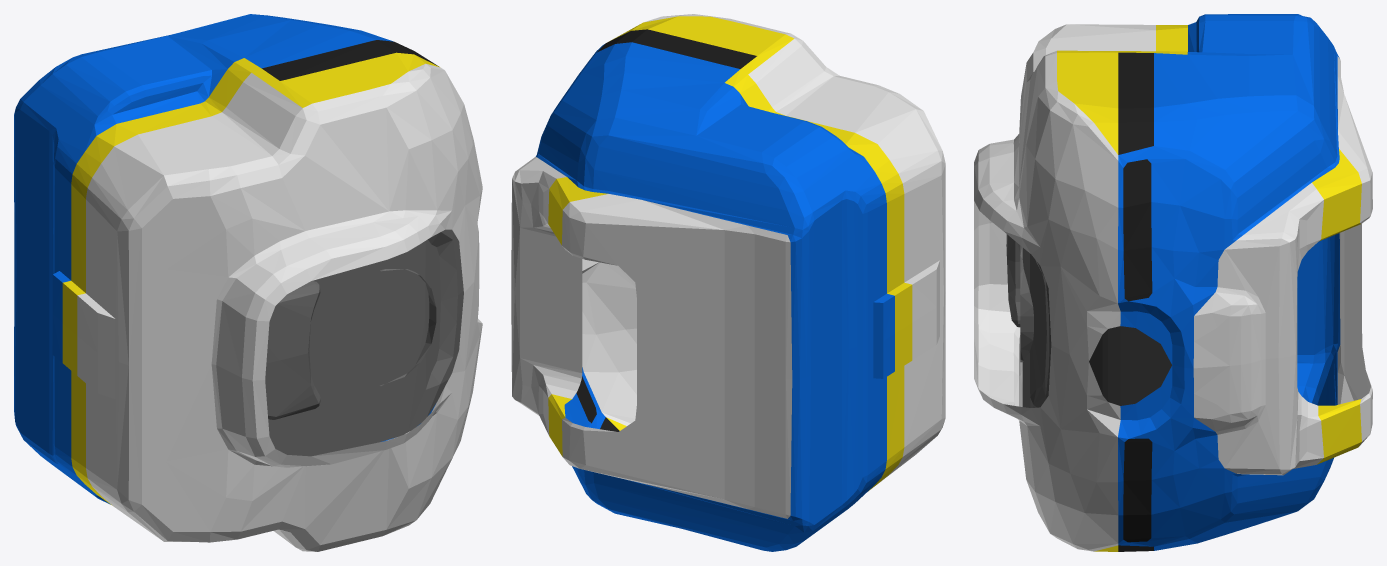
The model's file is CHEST_LINK1_mesh.dae.
3 renders of one model, left to right at view 1: azimuth 30°, elevation 25°; view 2: azimuth 150°, elevation 25°; view 3: azimuth 270°, elevation 25°, orthographic. The views are drawn at different scales.
Visible parts, largest first — view 1: CHEST_LINK1 (×5); view 2: CHEST_LINK1 (×4); view 3: CHEST_LINK1 (×6).
Boxes of the visible parts, x1,y1,x2,y2 form: CHEST_LINK1 (×5): (14,14,482,551); CHEST_LINK1 (×4): (511,14,945,551); CHEST_LINK1 (×6): (974,14,1372,551).
Bounding box in the file's own units: 0.3537 × 0.389 × 0.319.
